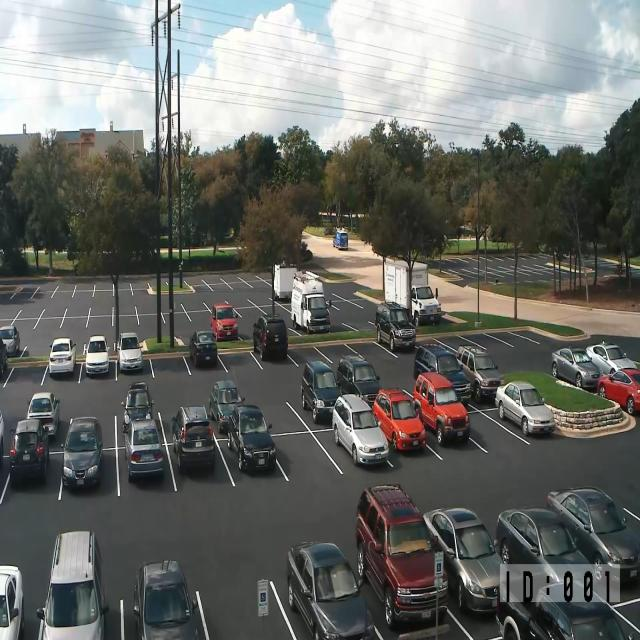car: (356, 483, 448, 629), (494, 507, 597, 605), (496, 574, 639, 640), (546, 485, 640, 583), (286, 540, 375, 640), (423, 507, 503, 615), (36, 530, 109, 639), (133, 559, 210, 639), (413, 371, 471, 446), (332, 393, 389, 466), (528, 598, 626, 640), (413, 342, 472, 407), (494, 381, 556, 436), (373, 388, 426, 452), (227, 404, 276, 472), (60, 415, 103, 489), (171, 405, 215, 472), (456, 344, 504, 402), (301, 359, 342, 424), (123, 417, 164, 481), (9, 418, 49, 482), (336, 354, 382, 408), (551, 346, 602, 391), (597, 367, 640, 415), (375, 301, 416, 351), (209, 379, 245, 433), (586, 340, 637, 376), (0, 564, 24, 639), (121, 381, 154, 434), (252, 314, 288, 361), (26, 391, 60, 439), (411, 284, 441, 326), (116, 332, 143, 373), (83, 335, 110, 376), (189, 330, 218, 368), (210, 302, 238, 341), (49, 337, 76, 376), (0, 325, 20, 356), (333, 229, 348, 250), (0, 337, 7, 378), (0, 408, 4, 467), (300, 240, 308, 252)
